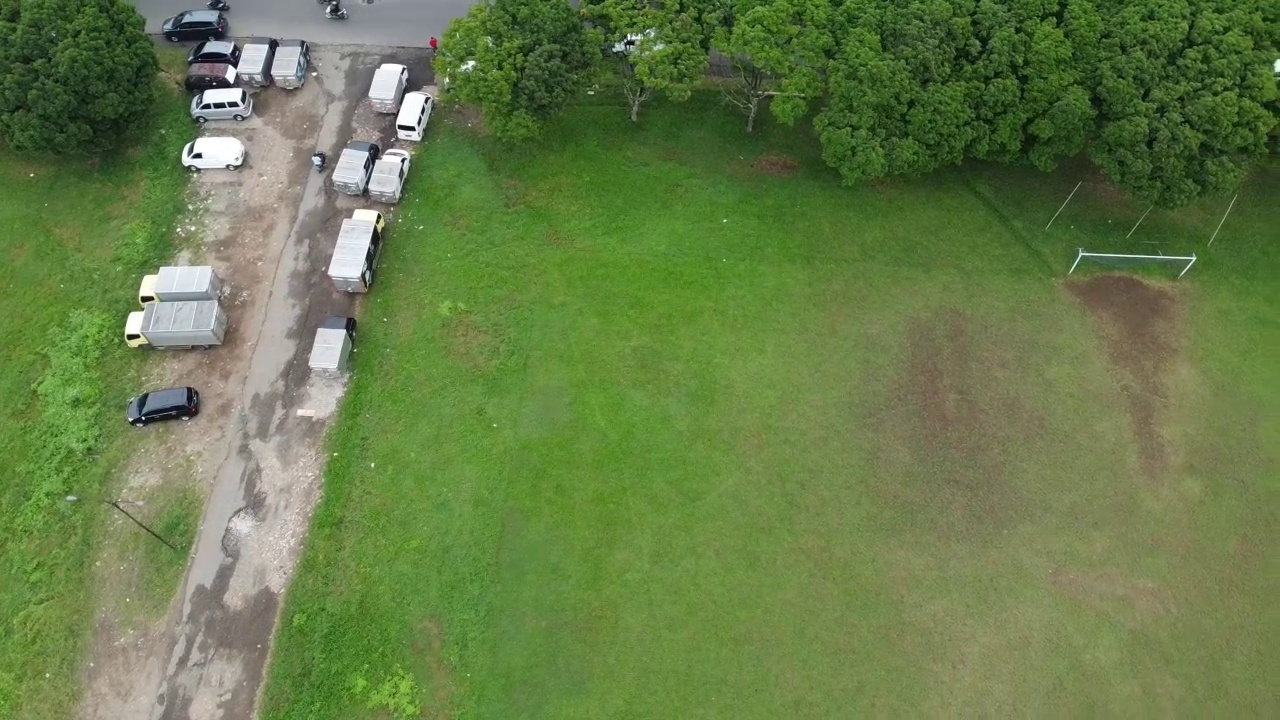mobil: (120, 386, 207, 426), (387, 86, 438, 147), (176, 134, 247, 174), (152, 8, 234, 41), (187, 90, 255, 124), (178, 60, 240, 94), (183, 39, 244, 70)
